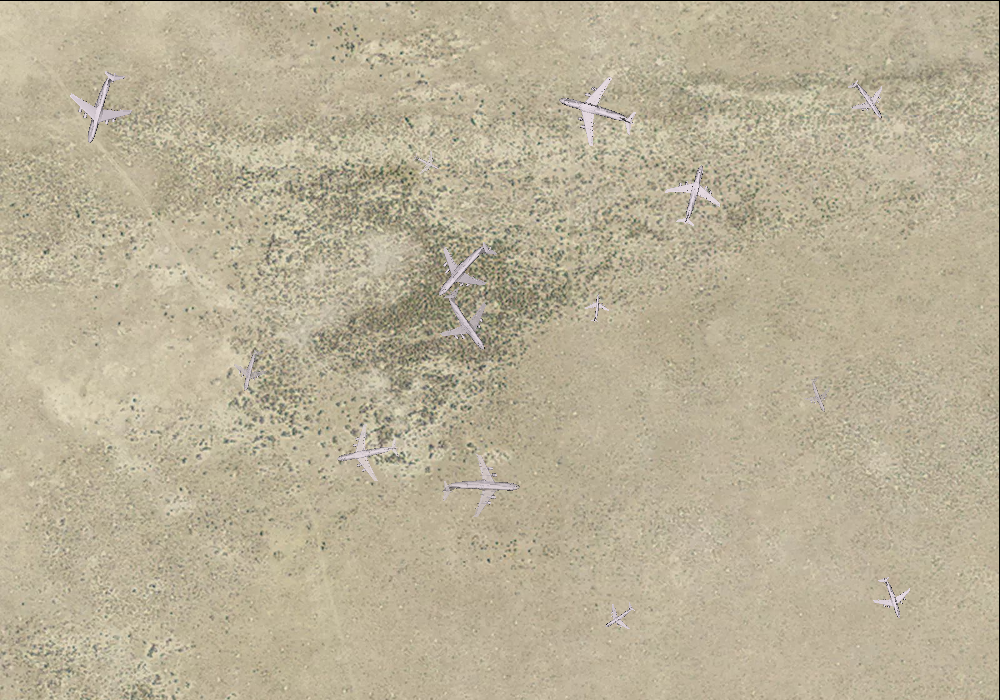plane: (416, 221, 512, 318), (548, 64, 645, 158), (56, 60, 146, 153), (421, 274, 511, 366), (439, 450, 521, 527), (657, 157, 729, 232), (331, 418, 404, 487), (836, 68, 897, 131), (864, 570, 918, 625), (227, 344, 275, 396), (595, 593, 642, 640), (797, 372, 841, 417), (408, 144, 445, 180), (581, 292, 611, 323)
